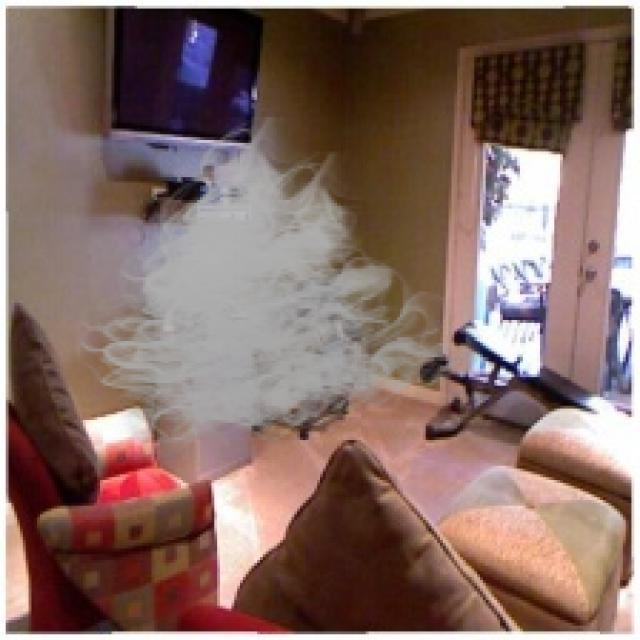Smoke: (62, 117, 488, 466)
